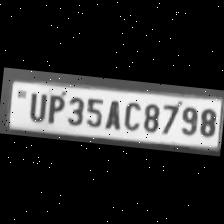3: (63, 92, 85, 128)
5: (82, 94, 106, 128)
7: (156, 100, 179, 136)
8: (196, 105, 219, 139), (138, 100, 160, 134)
9: (177, 102, 200, 138)
A: (103, 97, 123, 131)
C: (121, 98, 143, 132)
P: (43, 90, 66, 126)
U: (25, 90, 48, 122)
